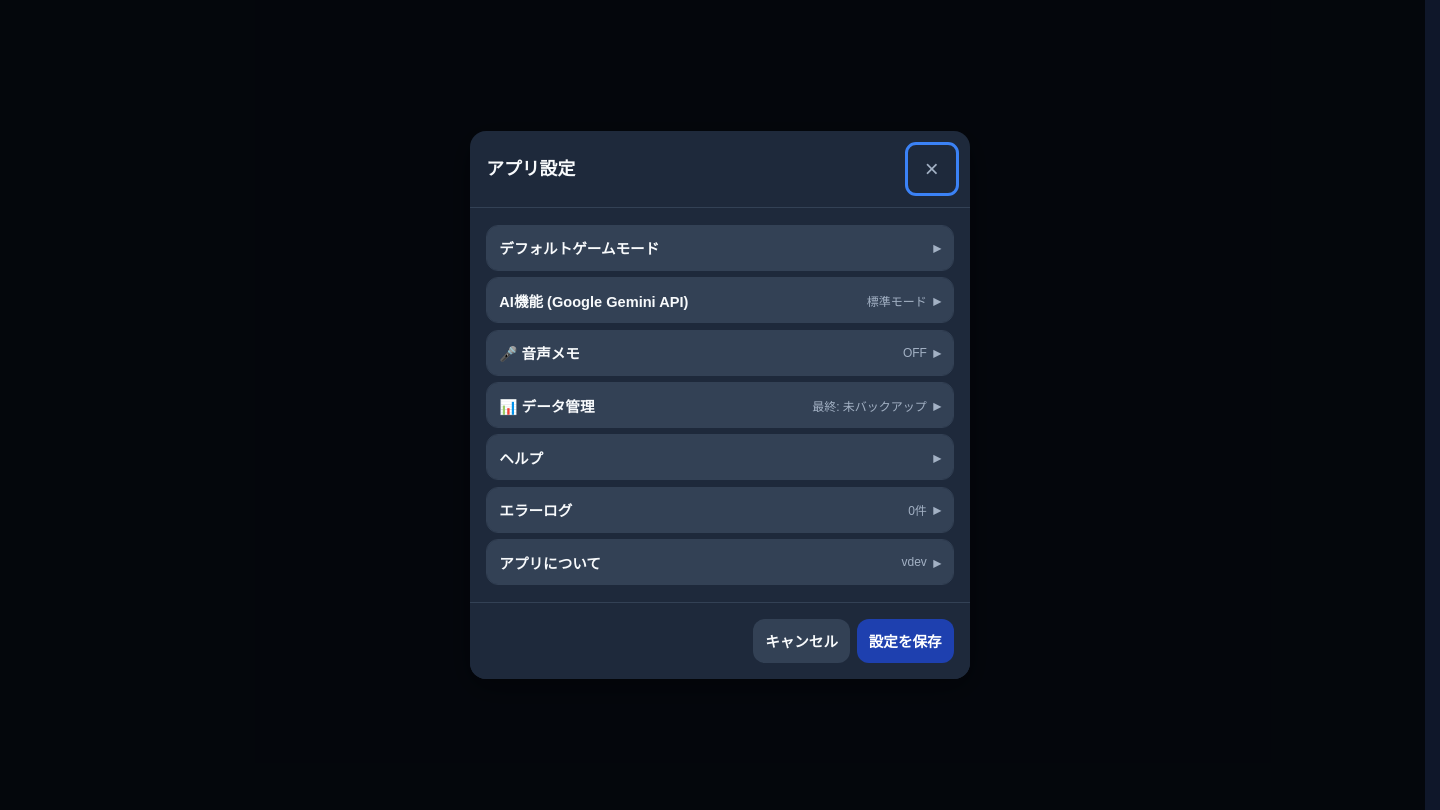
設定: 音声メモ › APIキーが無いときは必要である旨を案内する
Click the button "🎤 音声メモ OFF ▸".
click(540, 354)  # box [487,330,953,374]
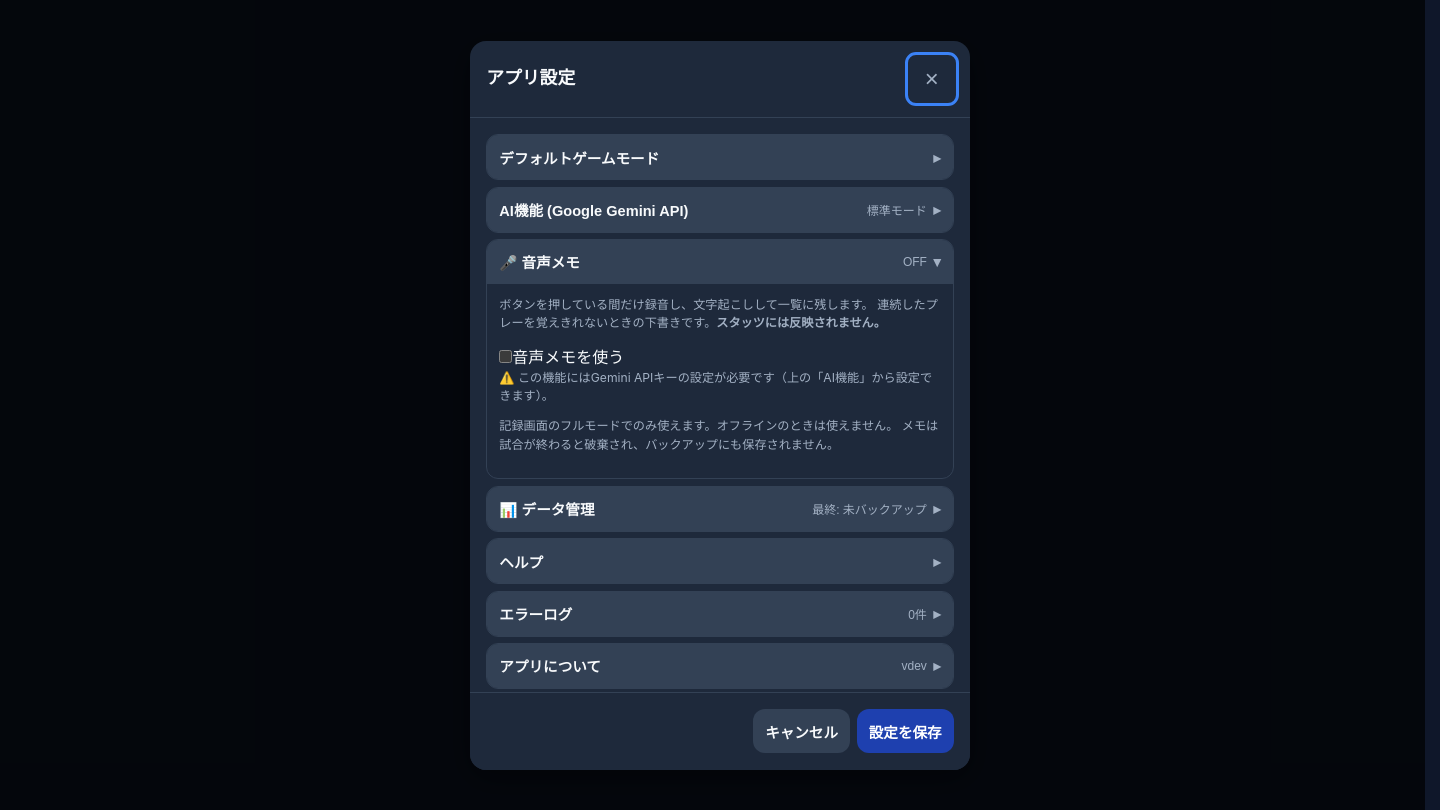
Expected: the text "⚠️ この機能にはGemini APIキーの設定が必要です（上の「AI機能」から設定できます）。" is shown, [499,369,941,405]
